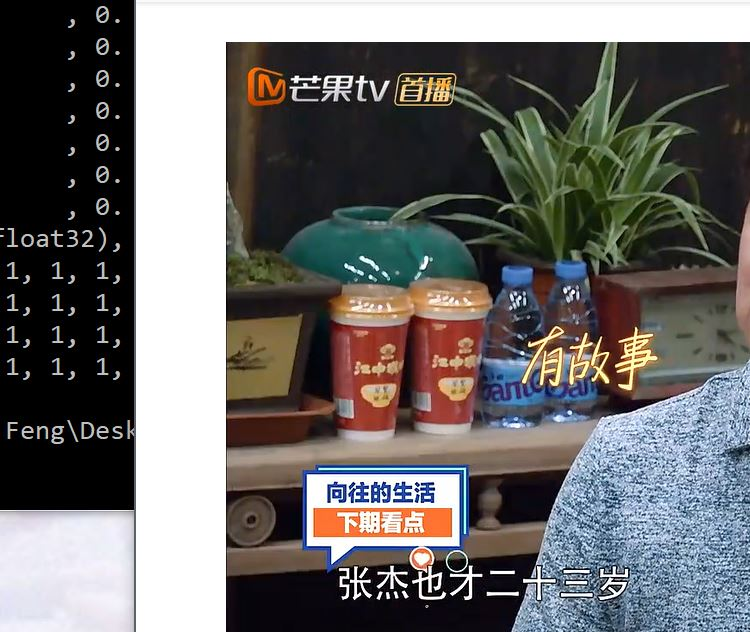cup: (408, 278, 492, 438), (331, 284, 407, 440)
